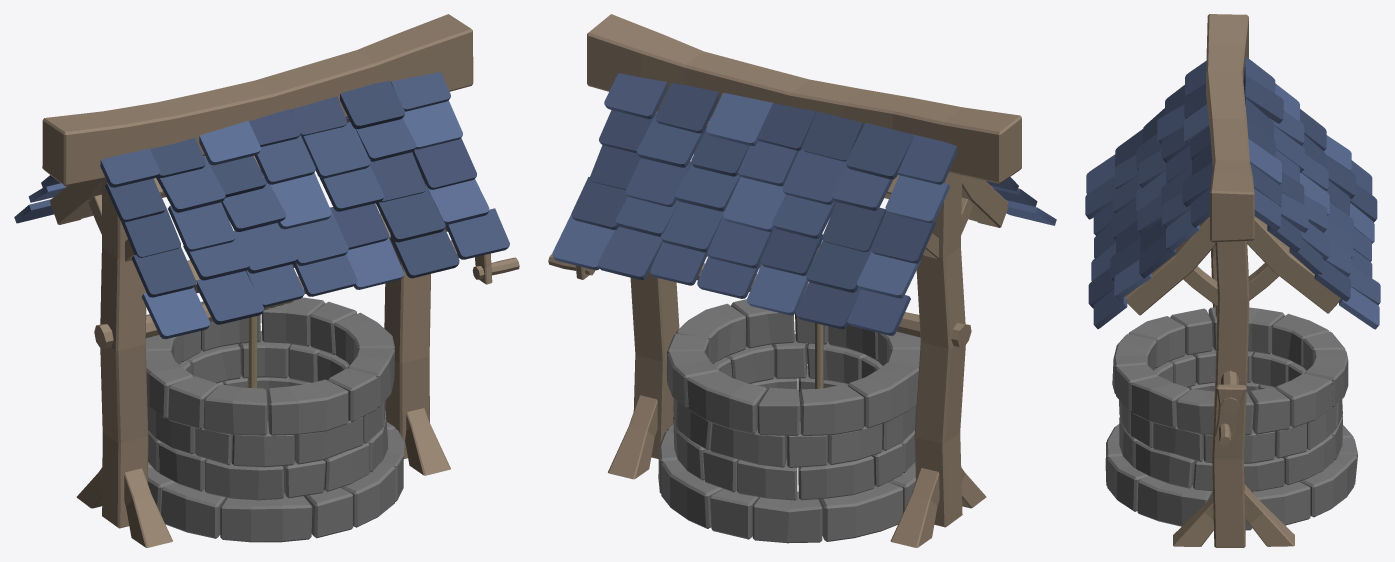
File: Well.fbx
The picture shows the model from 3 angles, left to right: view 1: azimuth 30°, elevation 25°; view 2: azimuth 150°, elevation 25°; view 3: azimuth 270°, elevation 25°; orthographic projection. The views are drawn at different scales.
Parts seen in each view (by area): view 1: Well; view 2: Well; view 3: Well.
Part boxes in pixels (x1=…): Well: x1=14, y1=14, x2=519, y2=547; Well: x1=548, y1=14, x2=1056, y2=547; Well: x1=1085, y1=14, x2=1380, y2=547.
Size of the model in its own units: 240 by 206 by 147.
